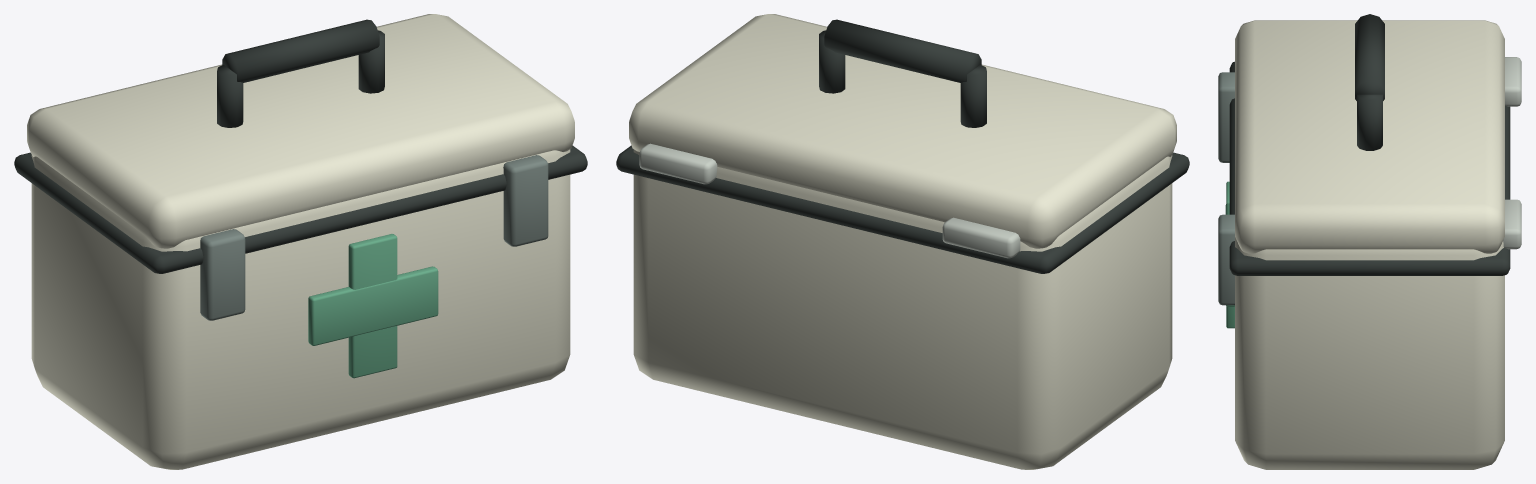
The model's file is medical_case.glb.
3 renders of one model, left to right at view 1: azimuth 30°, elevation 25°; view 2: azimuth 150°, elevation 25°; view 3: azimuth 270°, elevation 25°, orthographic. The views are drawn at different scales.
Visible parts, largest first — view 1: Medical case; view 2: Medical case; view 3: Medical case.
Boxes of the visible parts, bbox=[...] form: Medical case: bbox=[14, 14, 587, 469]; Medical case: bbox=[616, 14, 1189, 469]; Medical case: bbox=[1218, 14, 1521, 469].
Bounding box in the file's own units: 0.86 × 0.658 × 0.54.
